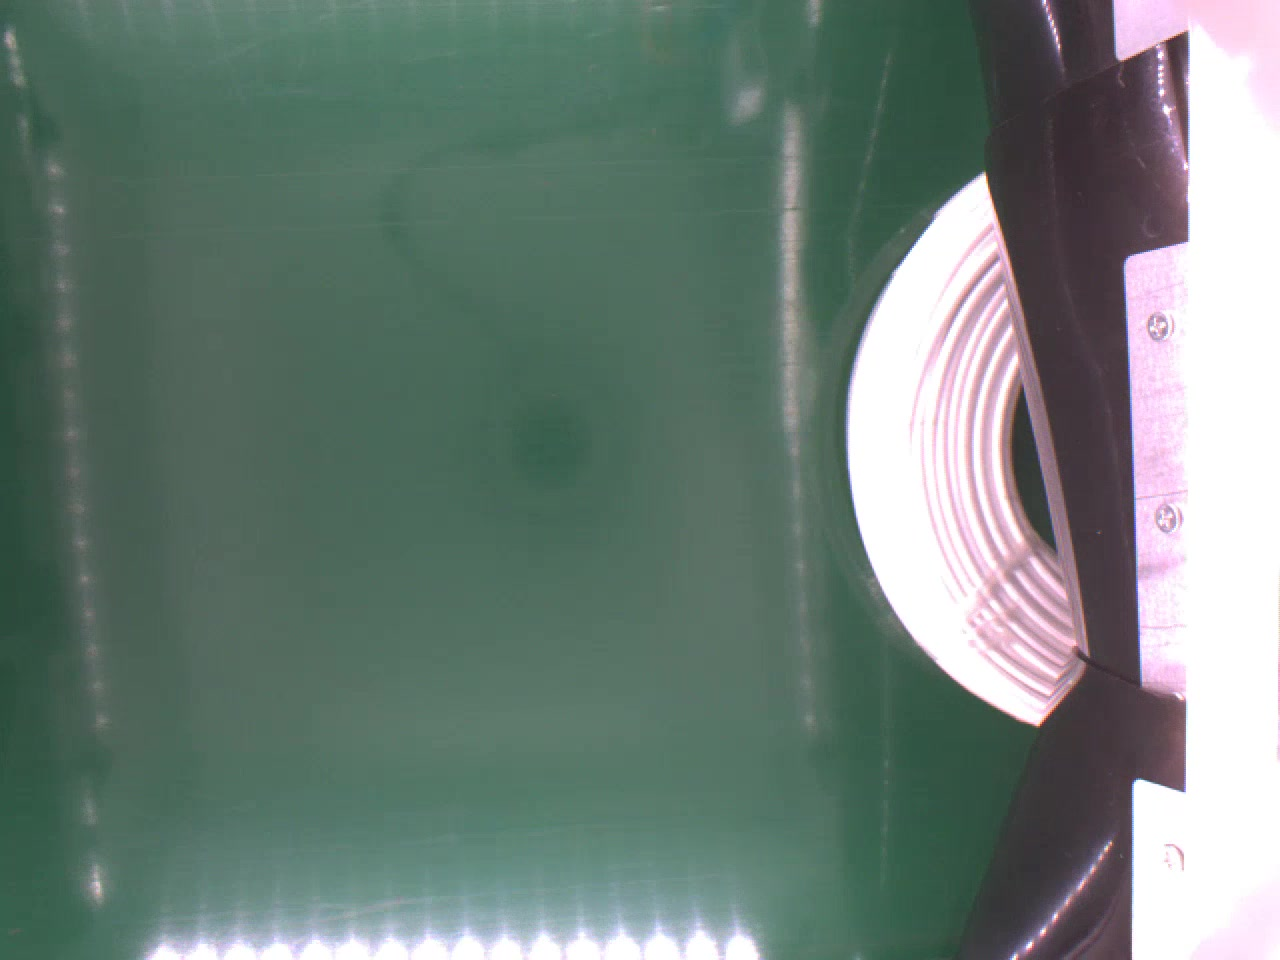white: (843, 166, 1081, 725)
